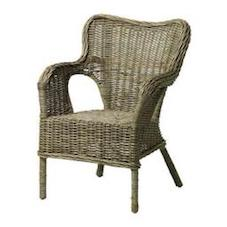chair: (19, 4, 206, 224)
